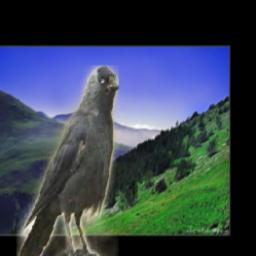Crow: (18, 65, 120, 256)
